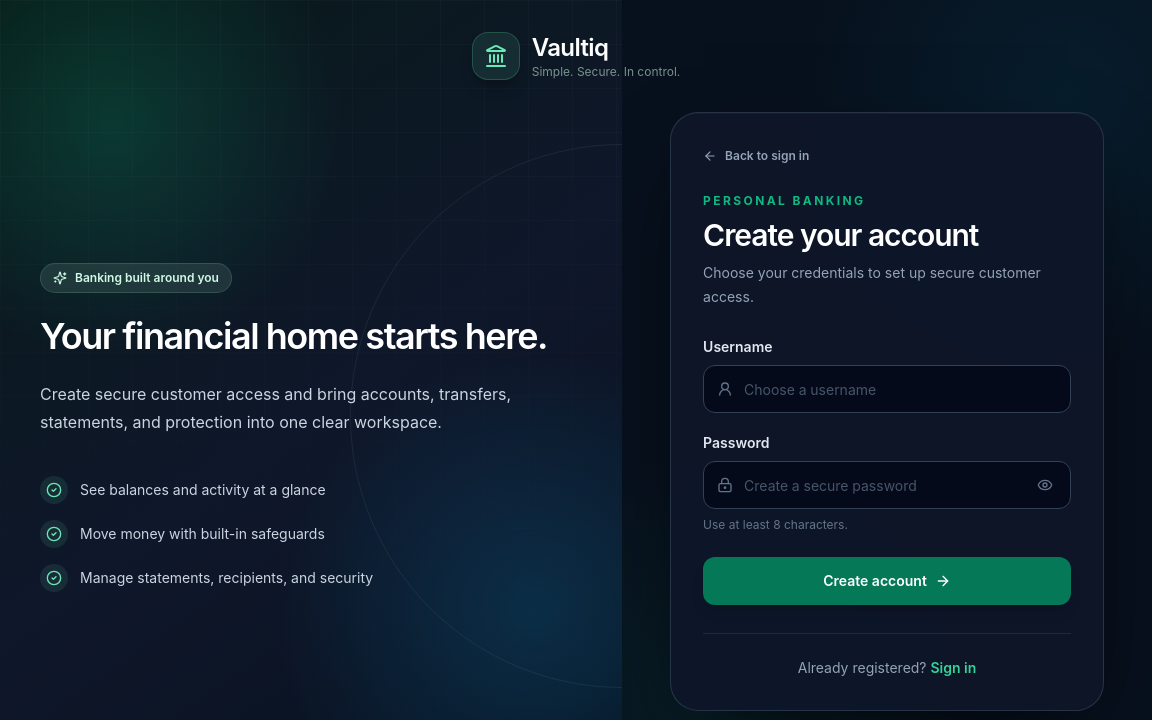
Scenario: auth screens › shows register success and failure states
Type "new_customer" into the field labelled "Username" at (887, 389), box x1=703 y1=365 x2=1071 y2=413
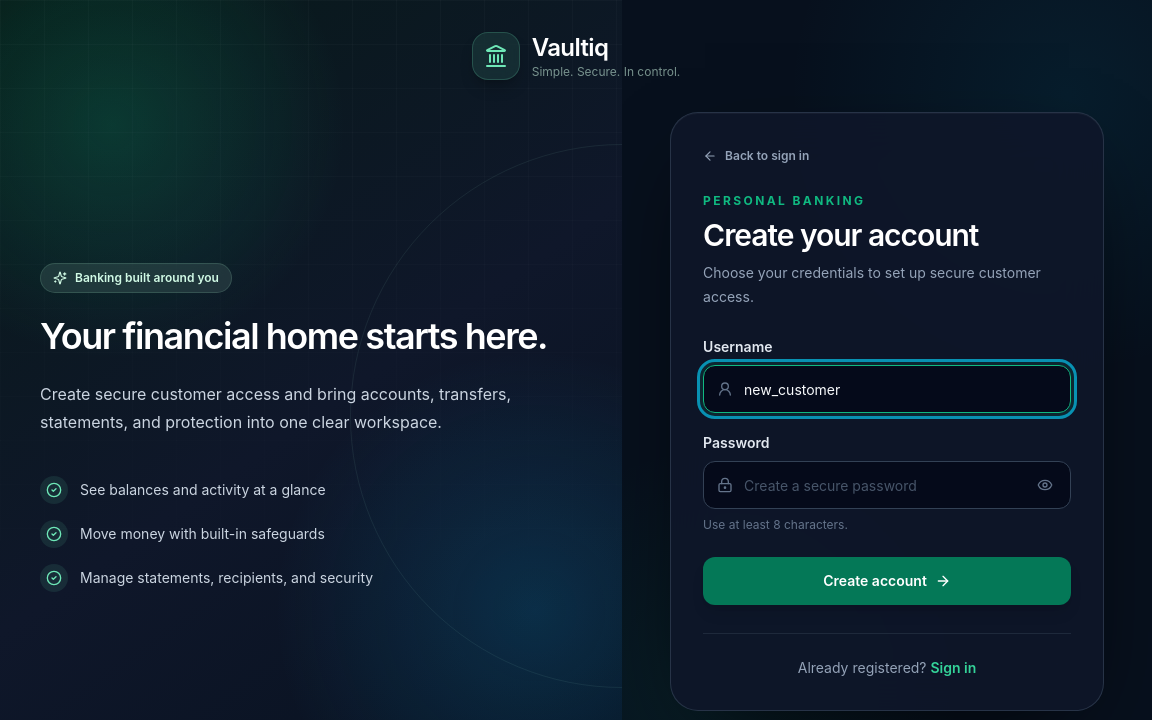
Type "password1234" into the password field labelled "Password" at (887, 485), box x1=703 y1=461 x2=1071 y2=509
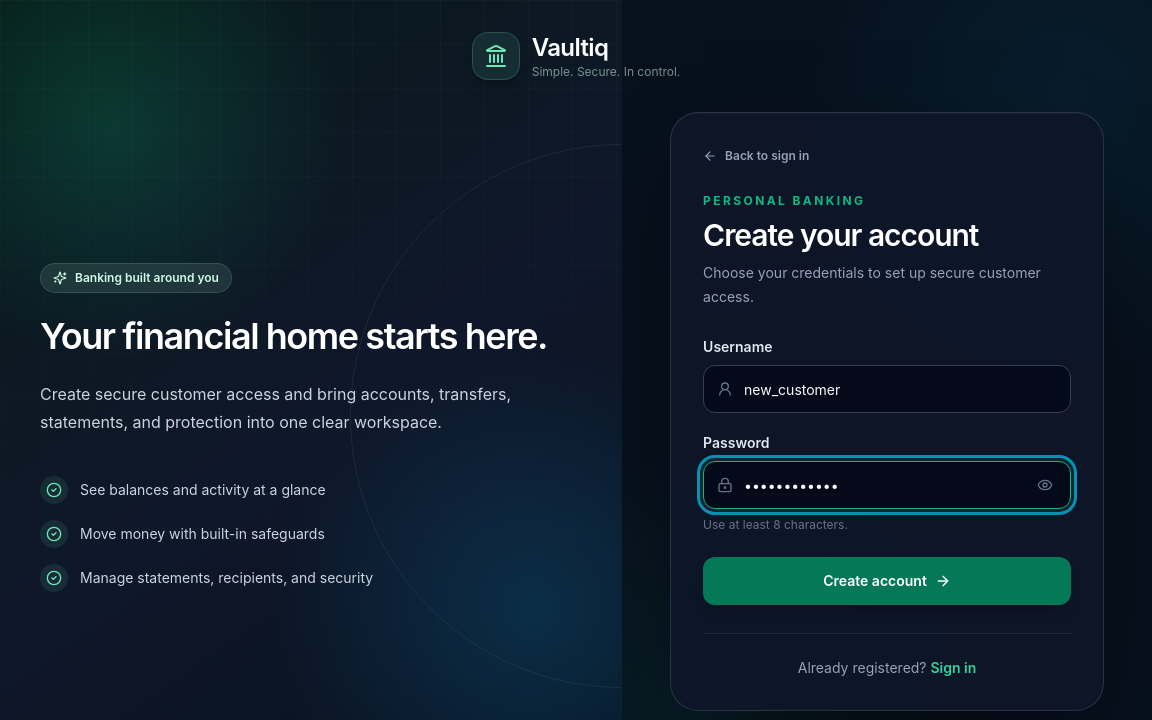
Click the button "Create account" at (887, 581), box x1=703 y1=557 x2=1071 y2=605
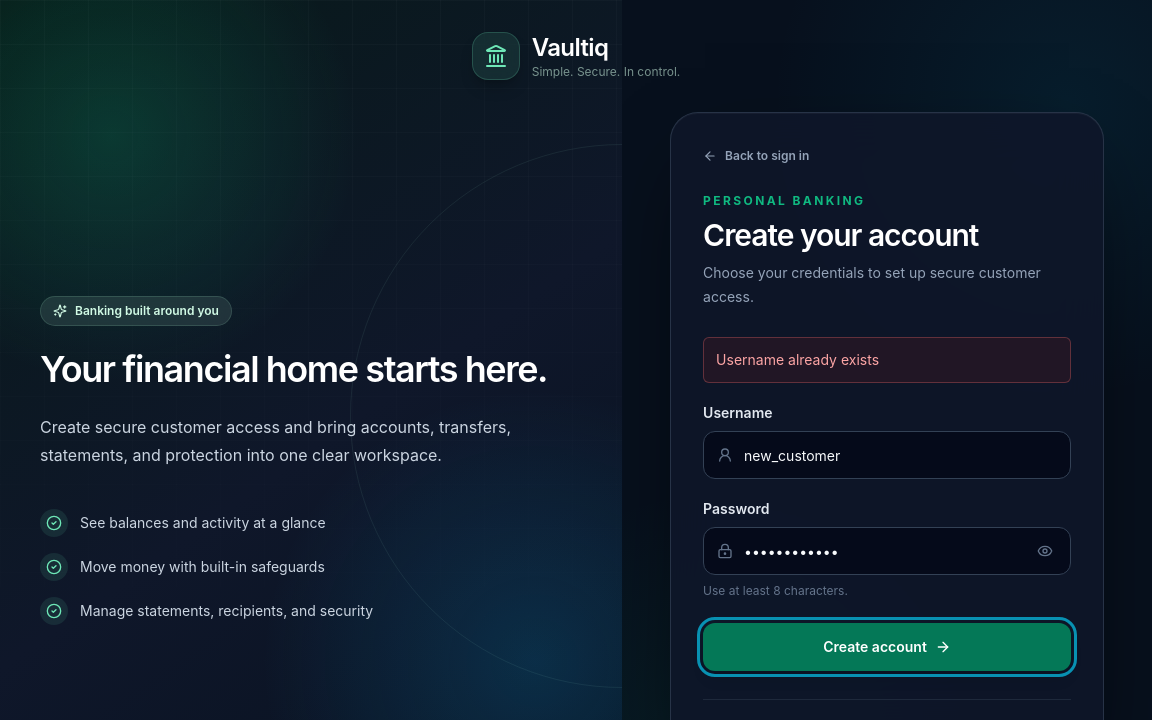
Expected: the text "Username already exists" is shown, x1=703 y1=337 x2=1071 y2=383
Click the button "Create account" at (887, 647), box x1=703 y1=623 x2=1071 y2=671
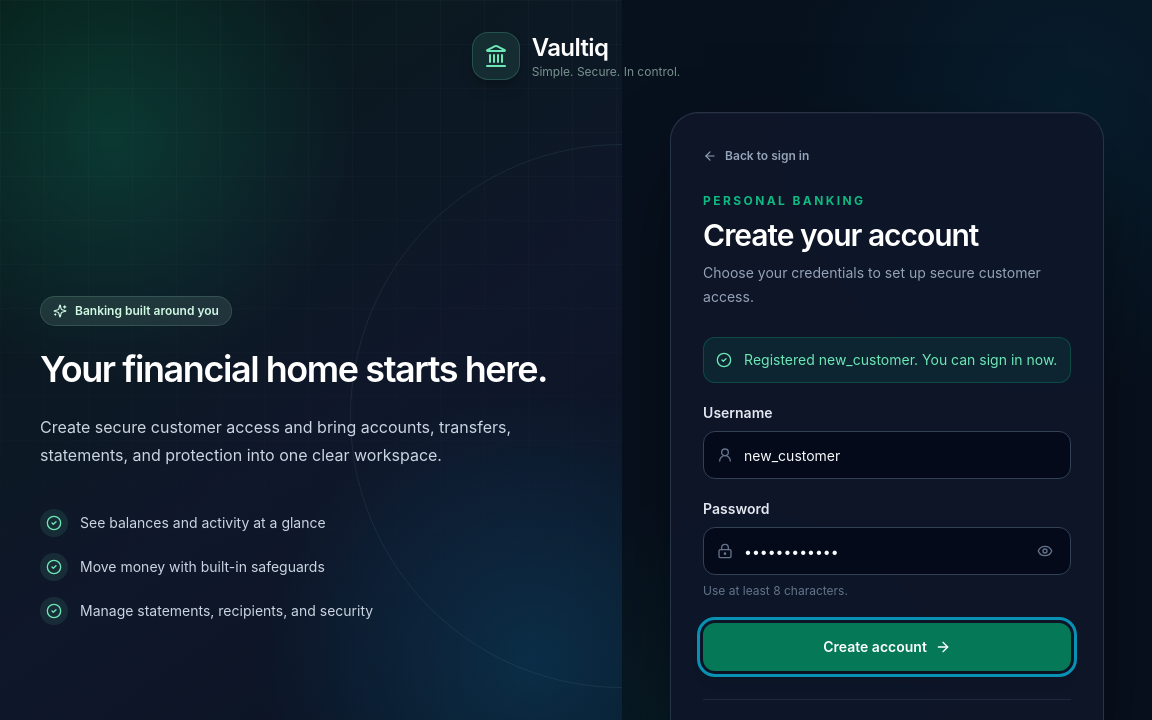
Expected: the text "Registered new_customer. You can sign in now." is shown, x1=744 y1=350 x2=1057 y2=370
